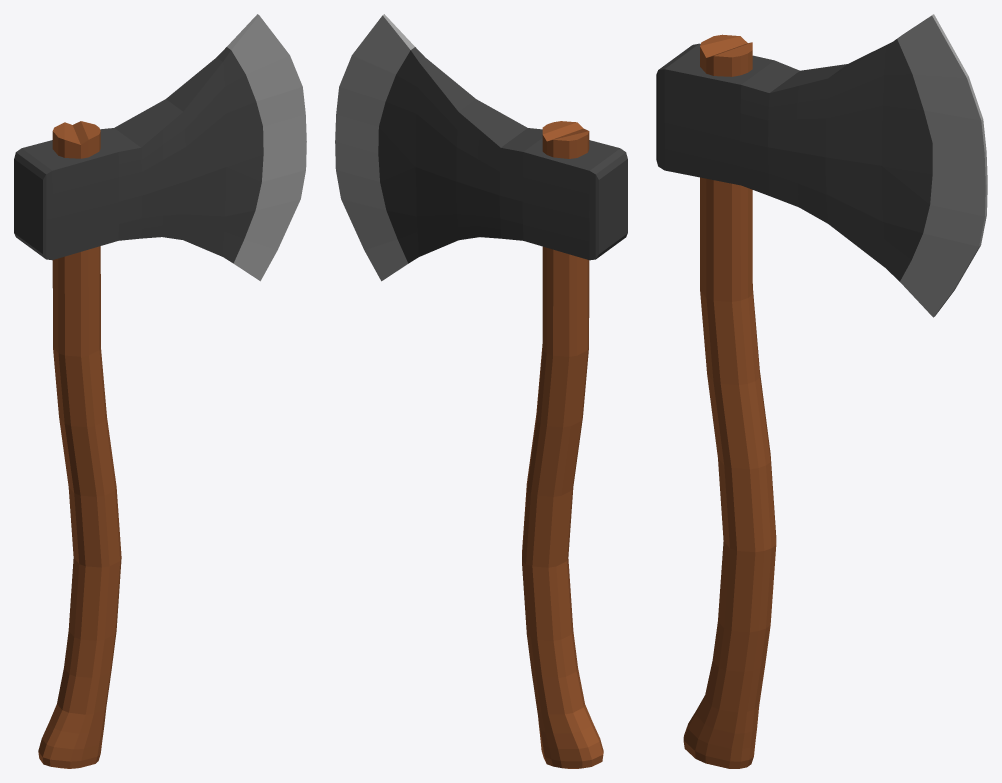
The model's file is Axe 1.glb.
3 renders of one model, left to right at view 1: azimuth 30°, elevation 25°; view 2: azimuth 150°, elevation 25°; view 3: azimuth 330°, elevation 25°, orthographic. The views are drawn at different scales.
Parts seen in each view (by area): view 1: Axe1; view 2: Axe1; view 3: Axe1.
Boxes of the visible parts, x1,y1,x2,y2 form: Axe1: [14, 14, 306, 768]; Axe1: [335, 14, 627, 768]; Axe1: [656, 14, 987, 768].
Bounding box in the file's own units: 0.2787 × 0.6775 × 0.0539.
